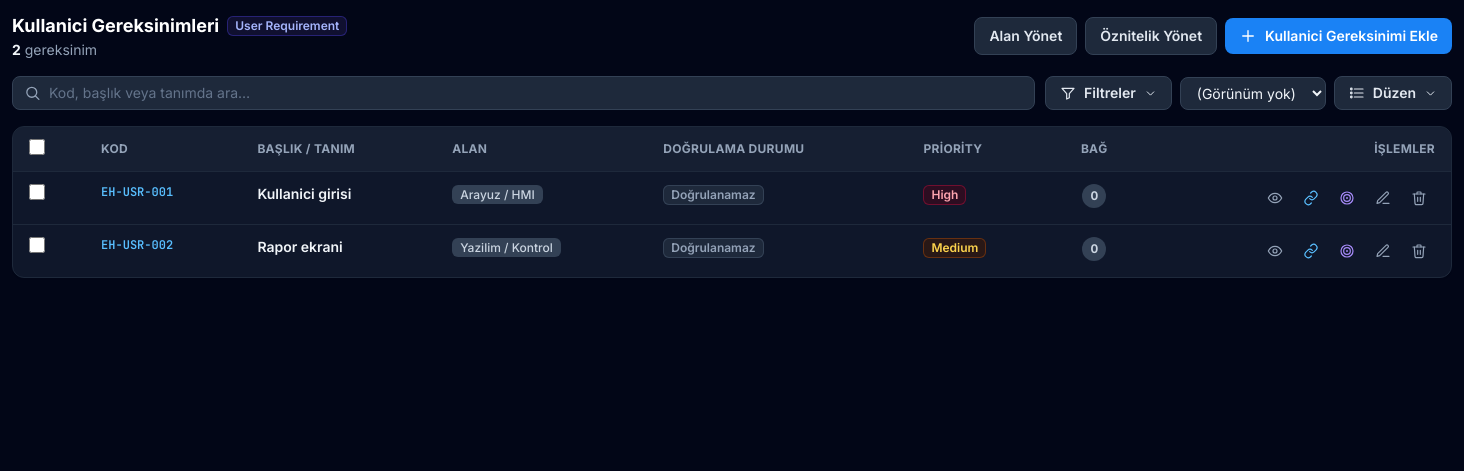
Test: Hierarchy — ortak filtre cubugu › birden fazla olcut AND ile birlesir
This screenshot has width=1464, height=471.
Click the button with test id "filter-toggle" at (1108, 93), box x1=1045 y1=76 x2=1172 y2=110
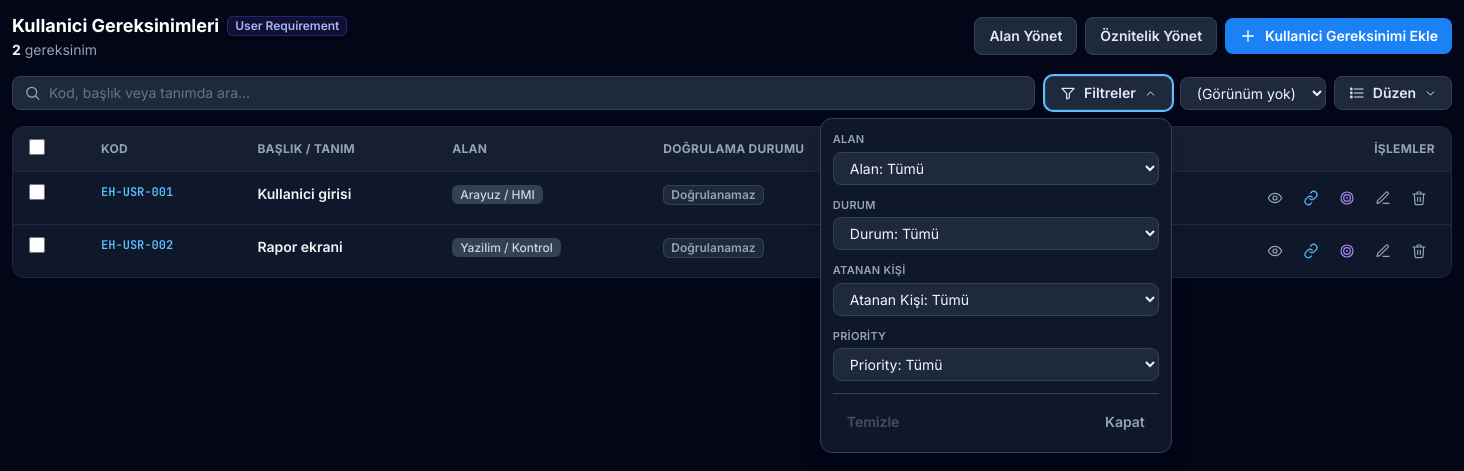
Select "Arayuz / HMI" in the dropdown with test id "filter-field" at (996, 168), box x1=833 y1=152 x2=1159 y2=184
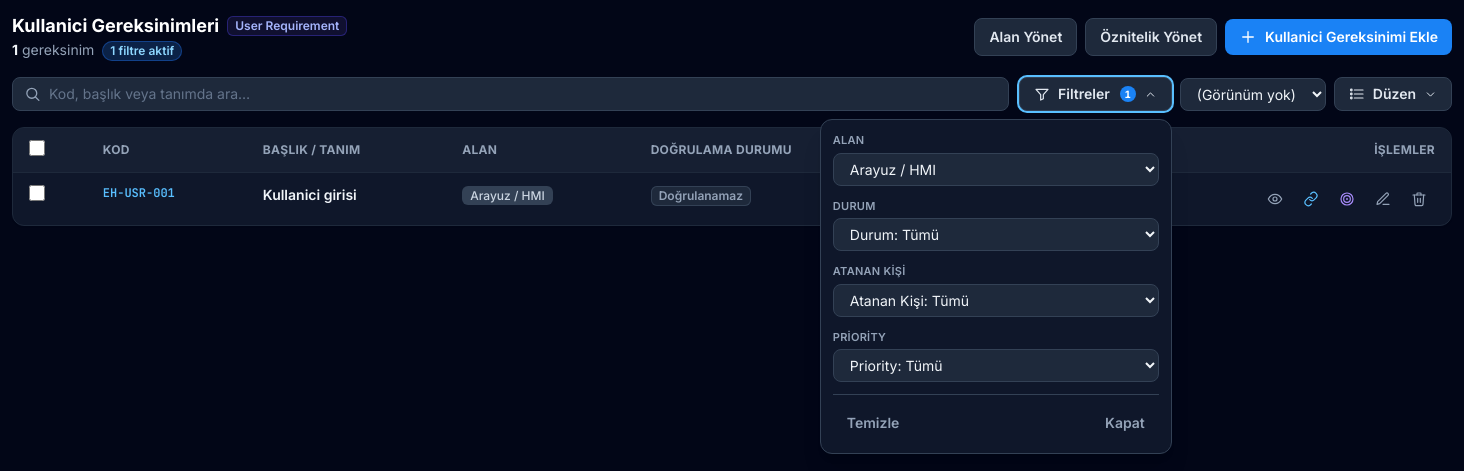
Select "Medium" in the dropdown with test id "filter-attr-priority" at (996, 366), box x1=833 y1=349 x2=1159 y2=382
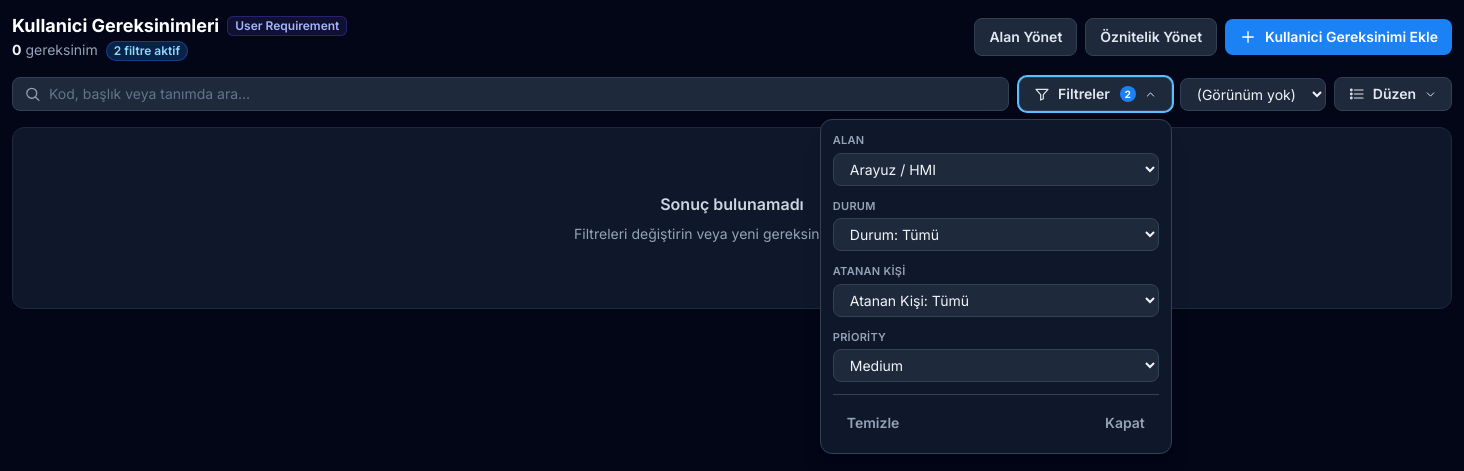
Result: the text "Sonuç bulunamadı" is shown at x1=660 y1=192 x2=804 y2=216
